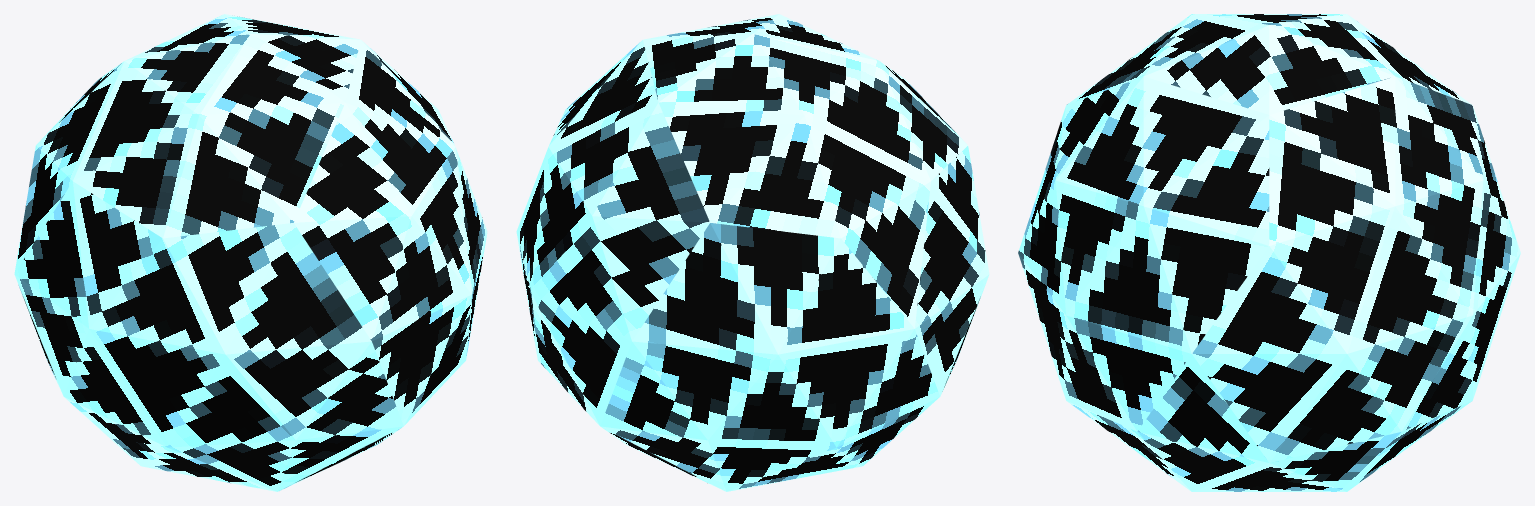
3 views of the same model, side by side, from view 1: azimuth 30°, elevation 25°; view 2: azimuth 150°, elevation 25°; view 3: azimuth 270°, elevation 25° (orthographic). The views are drawn at different scales.
Parts seen in each view (by area): view 1: GlowObj; view 2: GlowObj; view 3: GlowObj.
Boxes of the visible parts, box(x1,y1,x2,y2) form: GlowObj: box(14, 14, 487, 491); GlowObj: box(516, 14, 989, 491); GlowObj: box(1018, 14, 1520, 491).
Size of the model in its own units: 1.9 by 2 by 2.
Materials: 2 (2 with a texture image).
